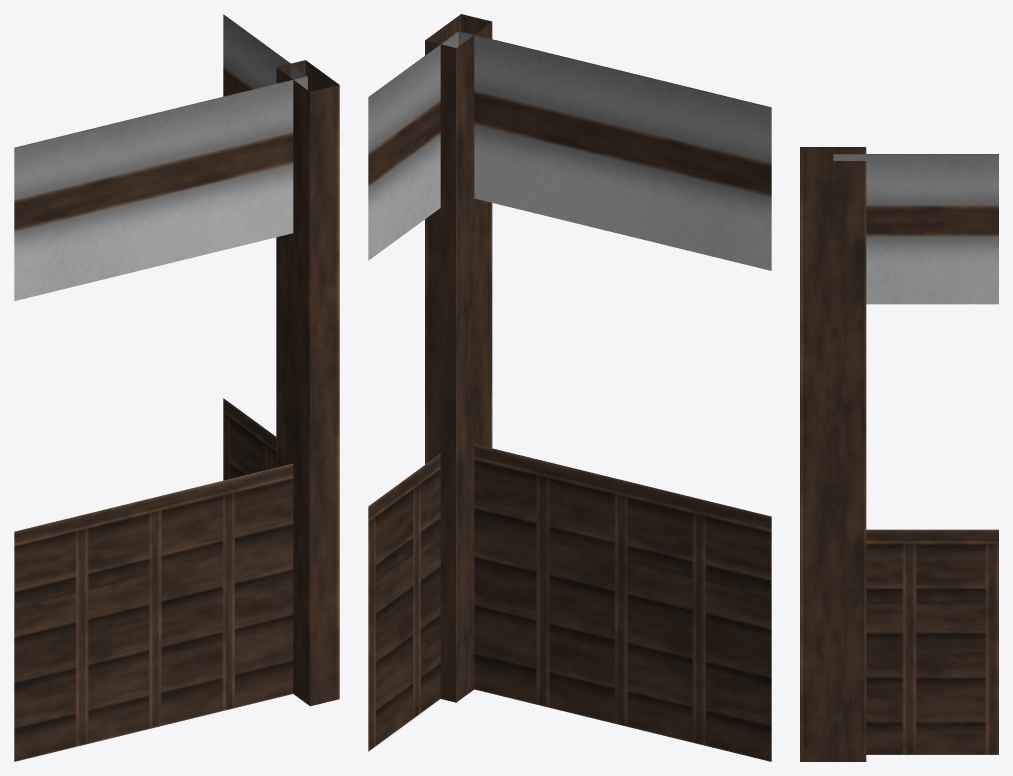
File: house_wall_window_b_corner_2.fbx
The picture shows the model from 3 angles, left to right: view 1: azimuth 30°, elevation 25°; view 2: azimuth 150°, elevation 25°; view 3: azimuth 270°, elevation 25°; orthographic projection. The views are drawn at different scales.
Visible parts, largest first — view 1: house_wall_window_b_corner_2; view 2: house_wall_window_b_corner_2; view 3: house_wall_window_b_corner_2.
Boxes of the visible parts, bbox=[...] form: house_wall_window_b_corner_2: bbox=[14, 14, 339, 761]; house_wall_window_b_corner_2: bbox=[368, 14, 771, 761]; house_wall_window_b_corner_2: bbox=[800, 147, 998, 761].
Bounding box in the file's own units: 210 × 400 × 120.
